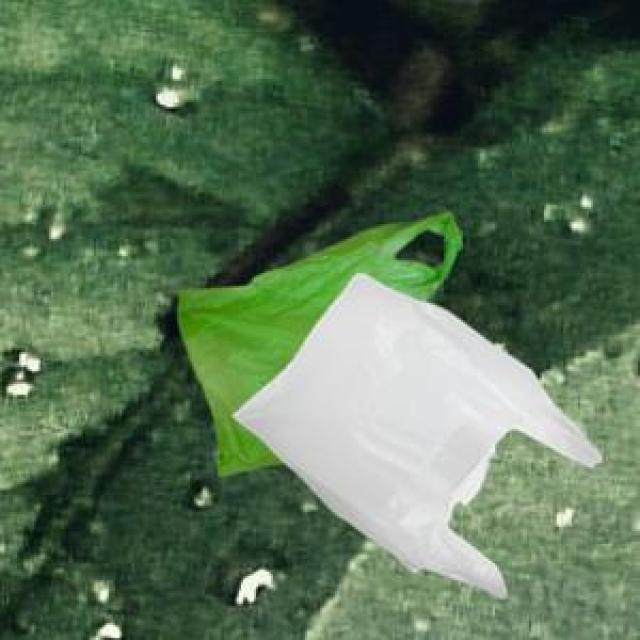plastic: (138, 208, 622, 623)
